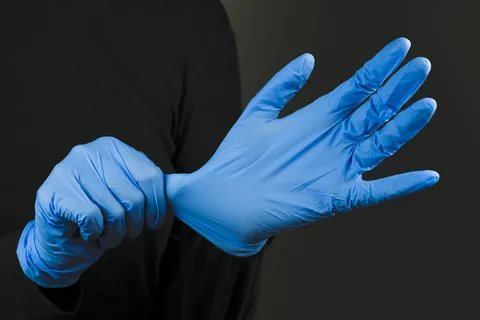gloves: (168, 33, 447, 261), (13, 131, 171, 289)
